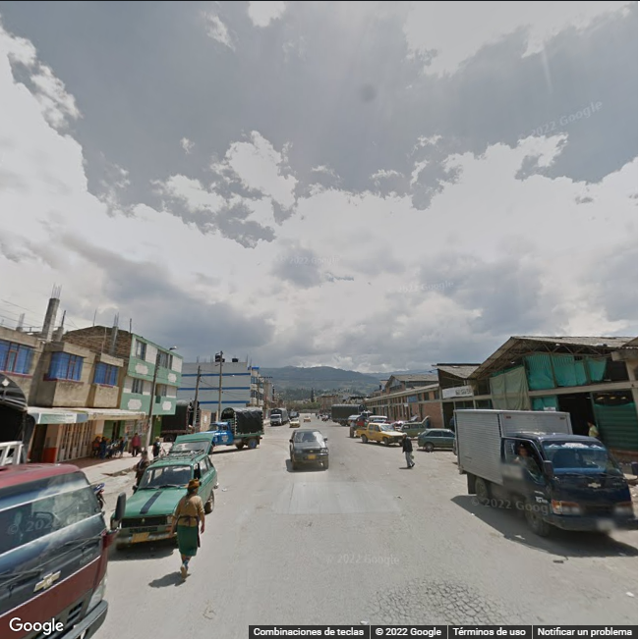D20: (376, 587, 501, 624)
